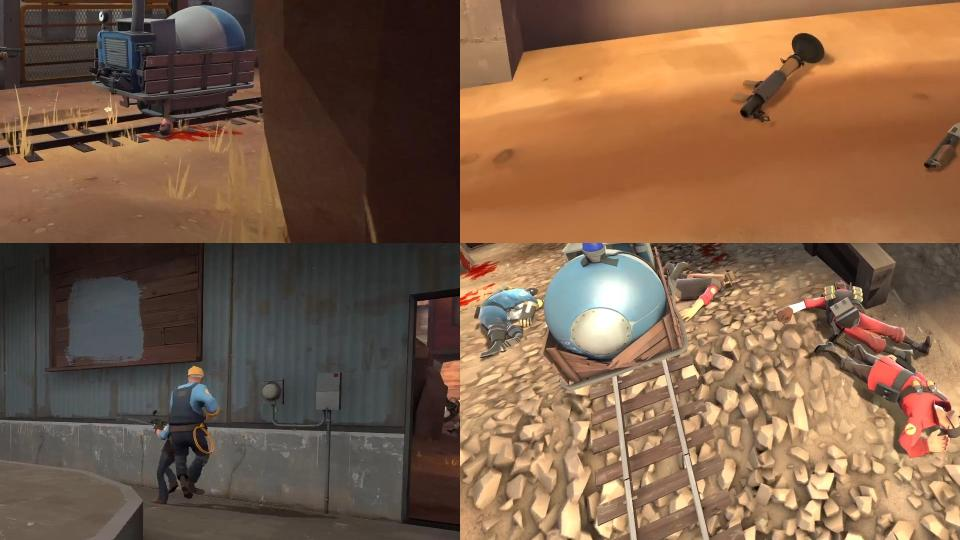Enemy: (804, 329, 960, 464), (774, 277, 943, 375), (168, 365, 220, 500), (469, 281, 544, 360), (662, 258, 741, 323), (129, 409, 179, 504), (443, 383, 460, 435)
